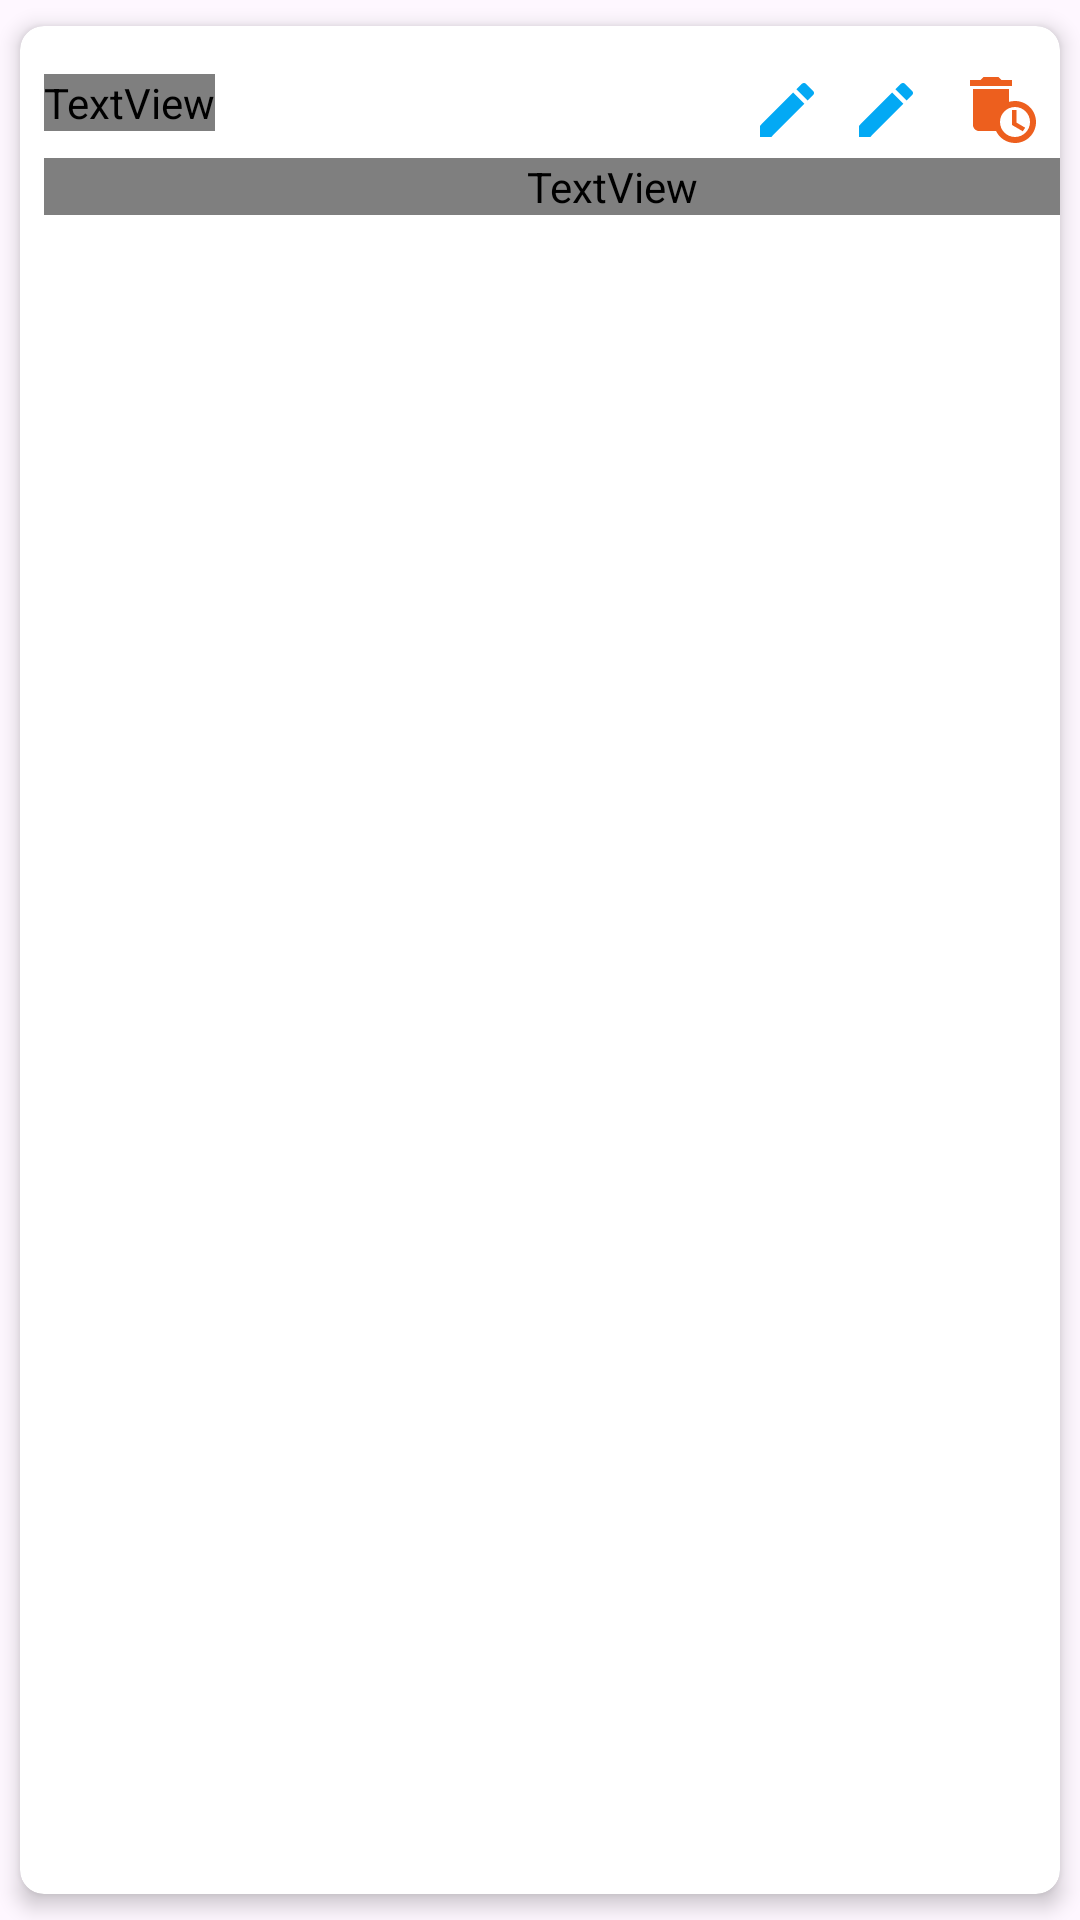

Icon bounding boxes for this 1080px x 1920px phone screenshot, format {"left": x1, "top": y1, "right": x2, "bottom": y2}:
auto delete: {"left": 970, "top": 77, "right": 1036, "bottom": 143}
create: {"left": 760, "top": 83, "right": 814, "bottom": 137}, {"left": 859, "top": 83, "right": 913, "bottom": 137}
